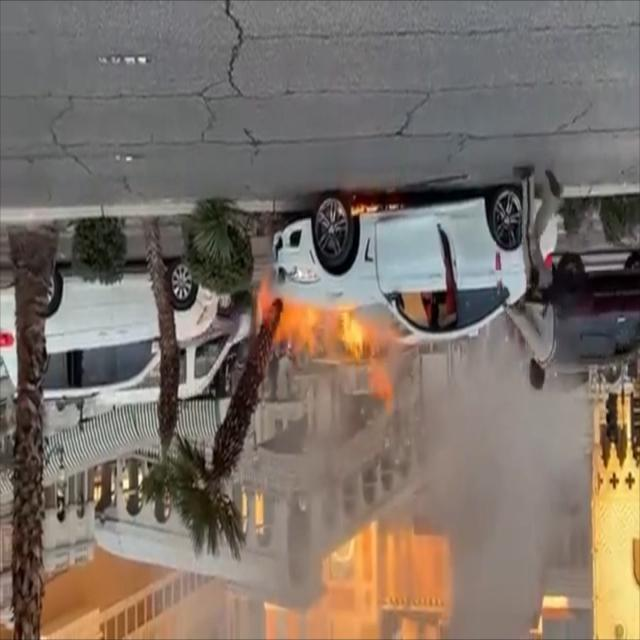fire: (255, 292, 405, 419)
